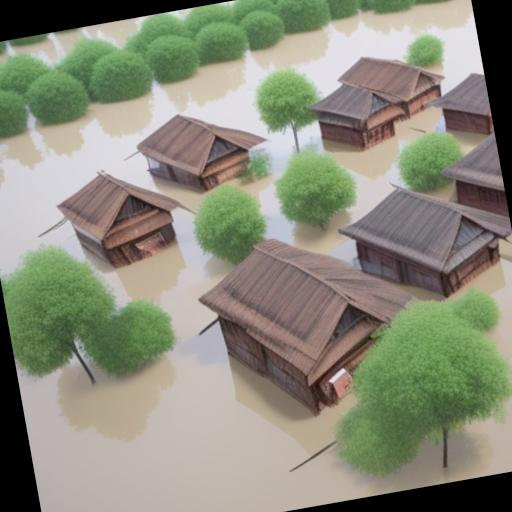flood: (0, 0, 512, 512), (0, 15, 148, 64), (453, 131, 486, 152), (429, 181, 457, 200)
house: (184, 210, 432, 436), (338, 170, 510, 314), (300, 40, 456, 159), (44, 160, 184, 280), (137, 96, 275, 202), (438, 134, 510, 234), (436, 66, 496, 150)
